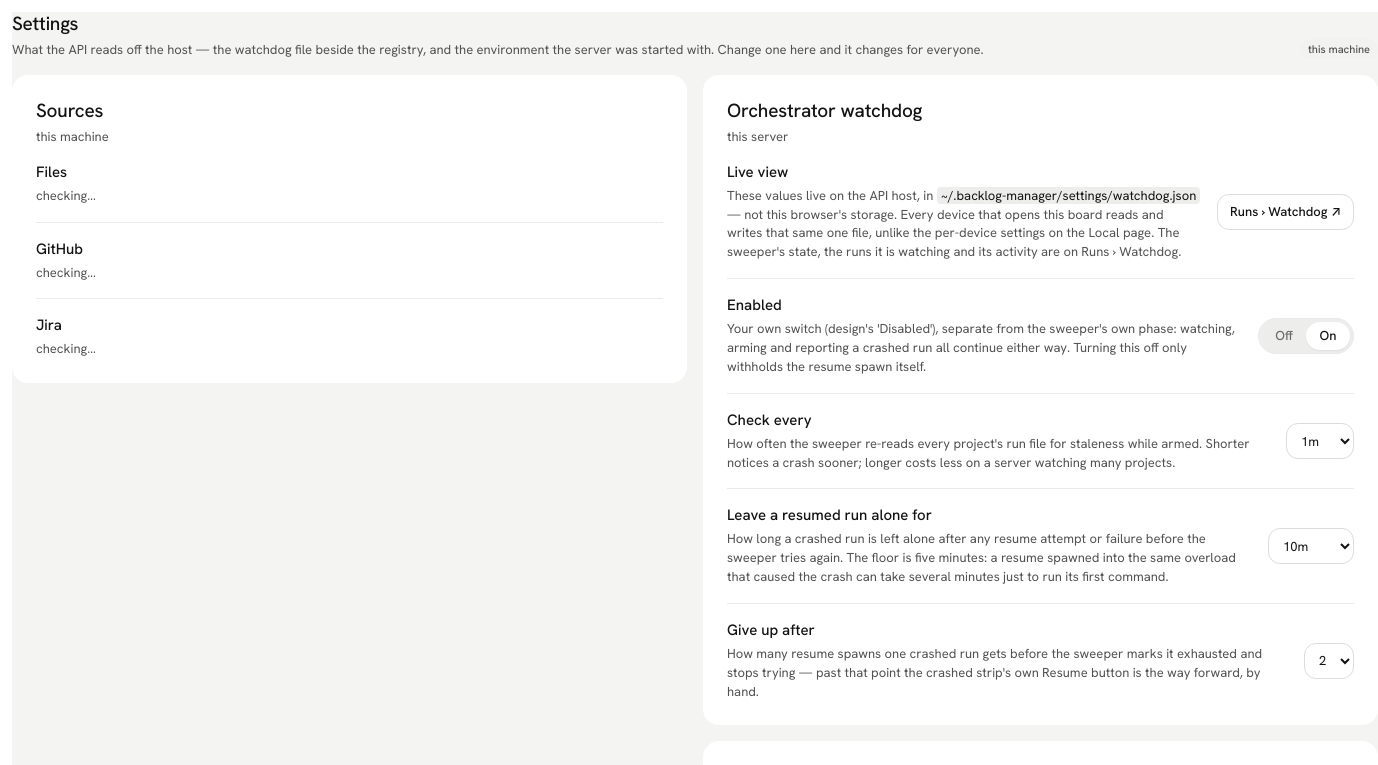
WatchdogGroup › renders a message and keeps every knob when a save is refused
Select "3" in the dropdown named "Give up after" at coordinates (1329, 661), box [1304,643,1354,679]
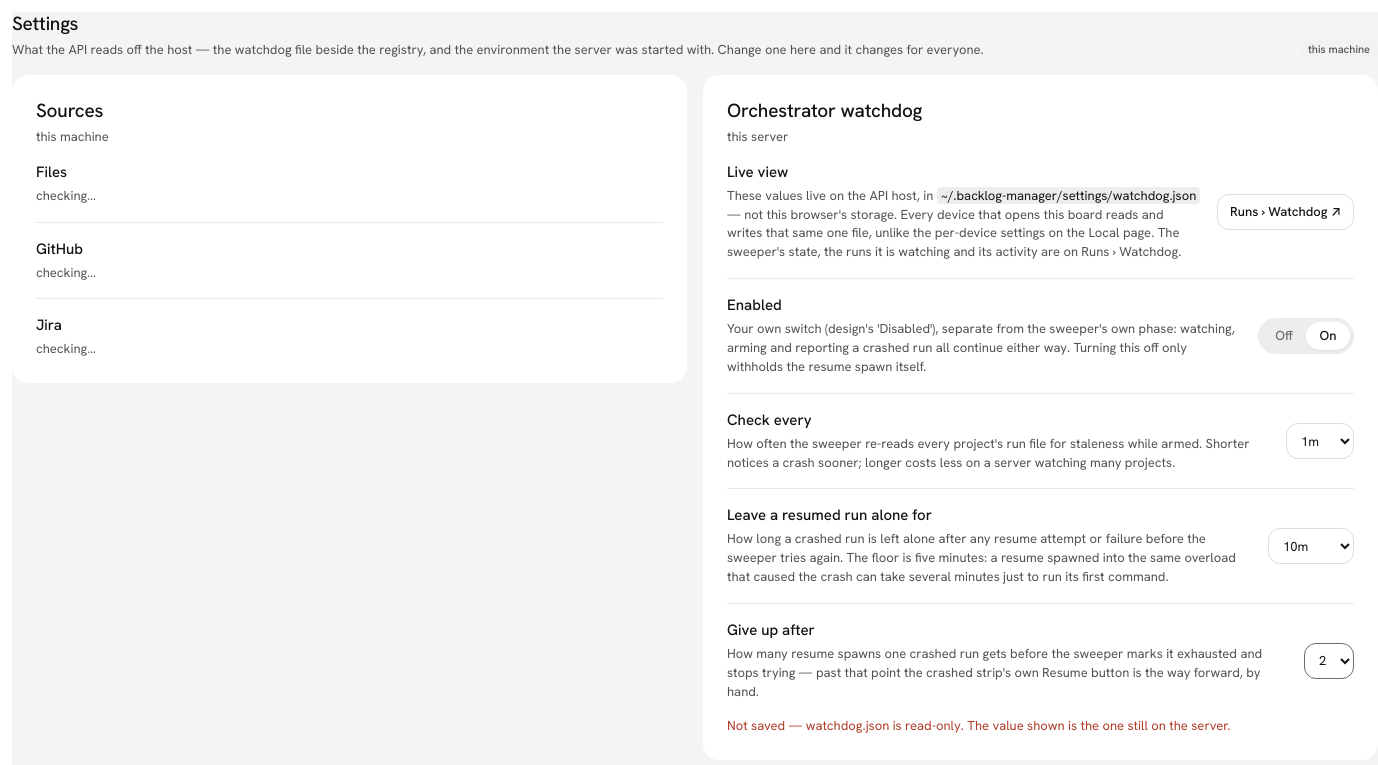
Expected: the switch named "Enabled" is shown, [1258,318,1354,354]
Expected: the message shows "Not saved", [727,717,806,734]
Expected: the message shows "watchdog.json is read-only", [806,717,961,734]
